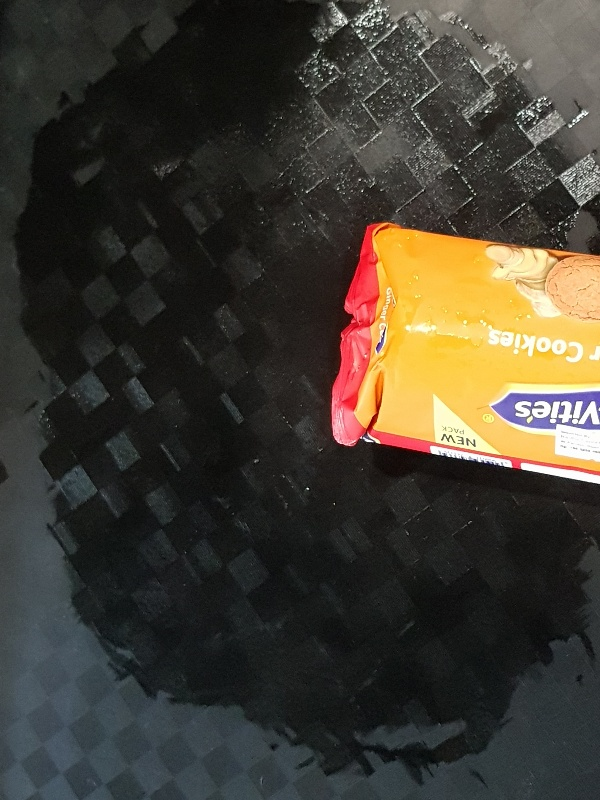McVitie's Ginger Cookies: (326, 219, 600, 488)
